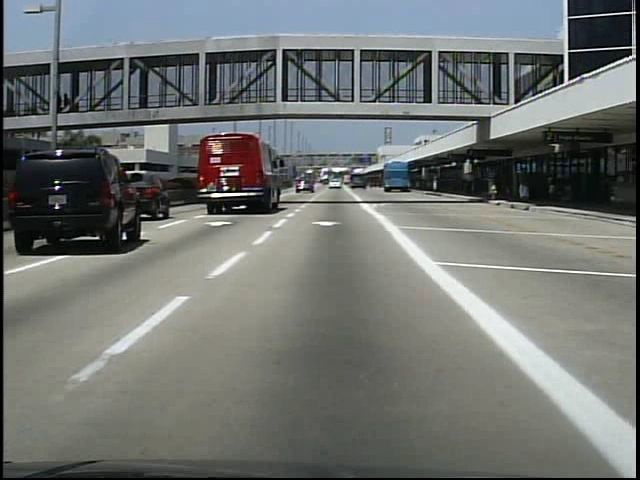person: (543, 168, 561, 202)
